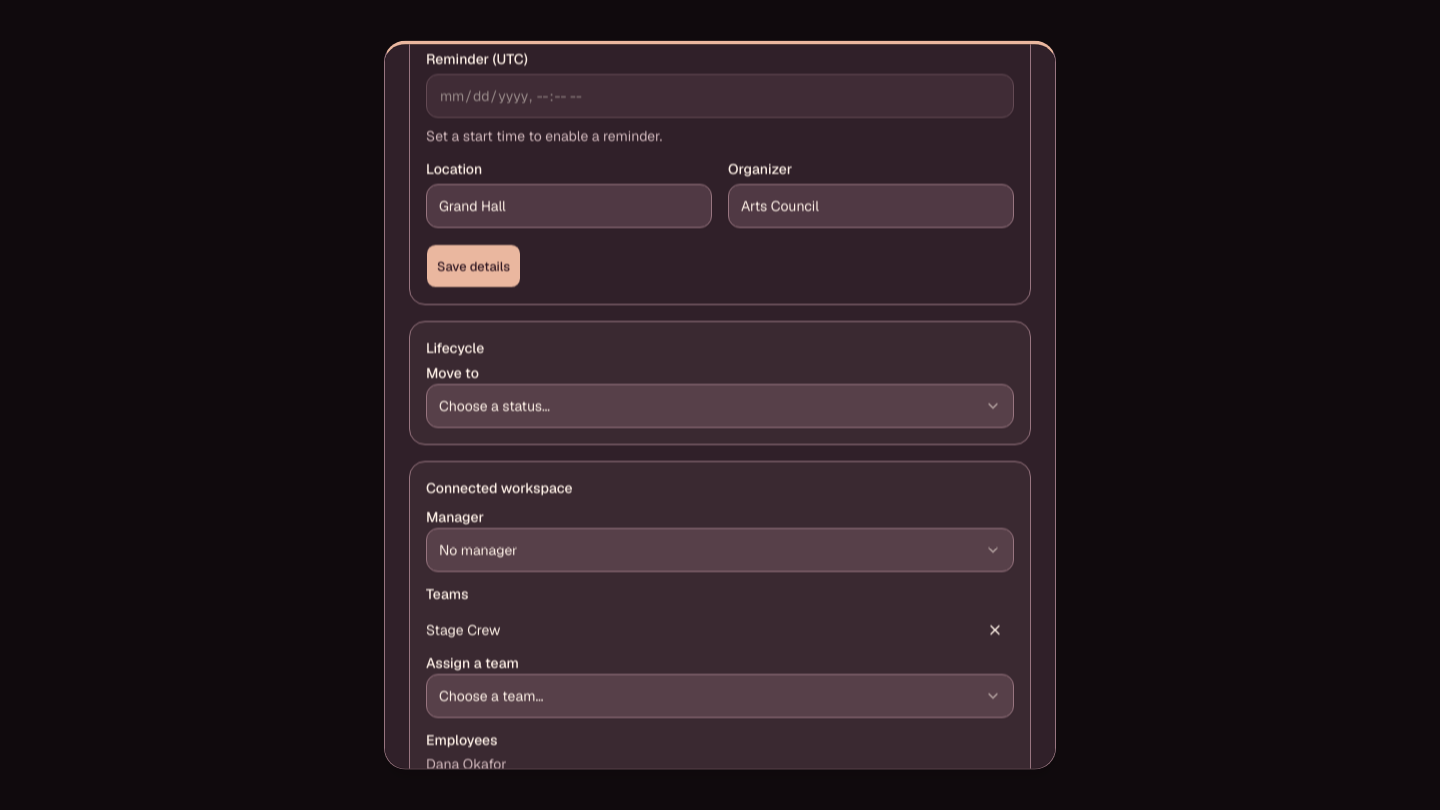
Scenario: EventDetailDialog › surfaces an action error from a failed transition
(page scrolled)
Click the dropdown named "Move to".
click(495, 407)  # box [426, 385, 1014, 429]
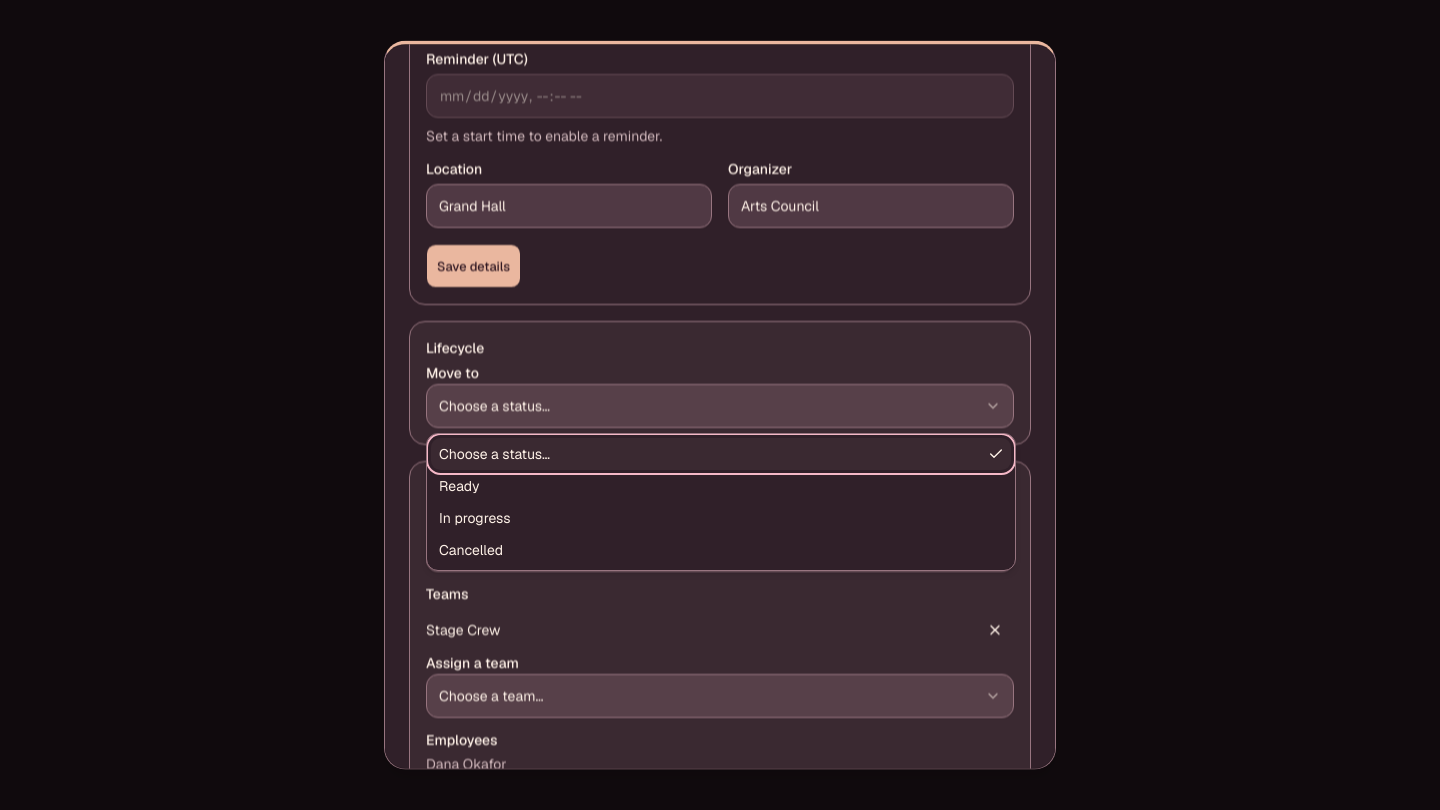
Click the option "Ready".
click(459, 486)  # box [439, 477, 480, 495]
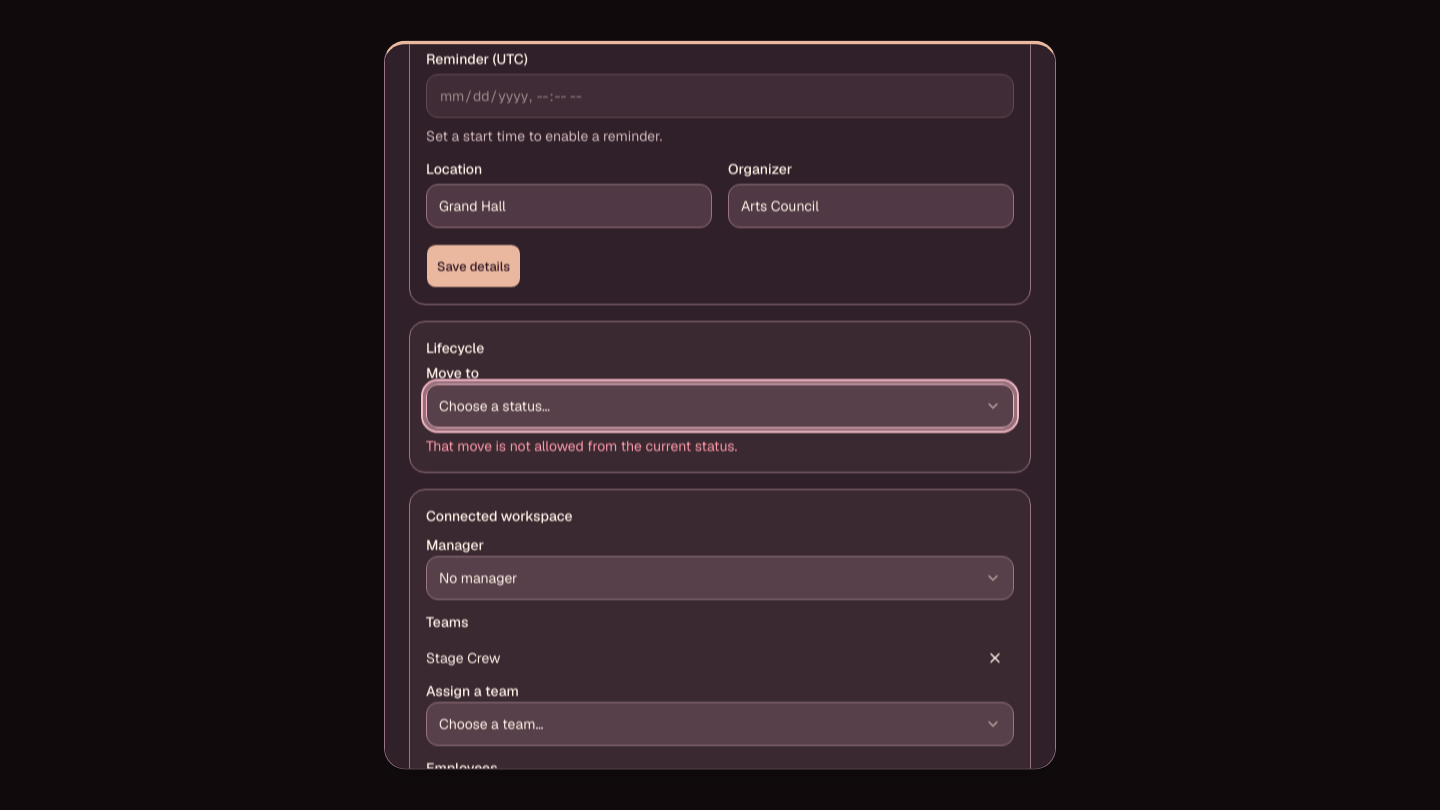
Expected: the text "That move is not allowed from the current status." is shown, [426, 438, 737, 456]
